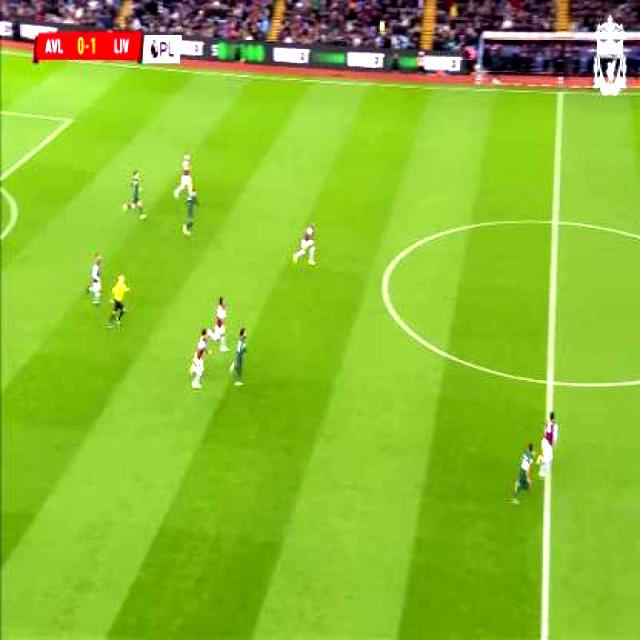bigarea_top_inner: (57, 102, 83, 142)
halfcircle_bottom: (536, 357, 568, 408)
halfcircle_top: (538, 198, 576, 245)
midline_top_intersection: (549, 70, 574, 120)
